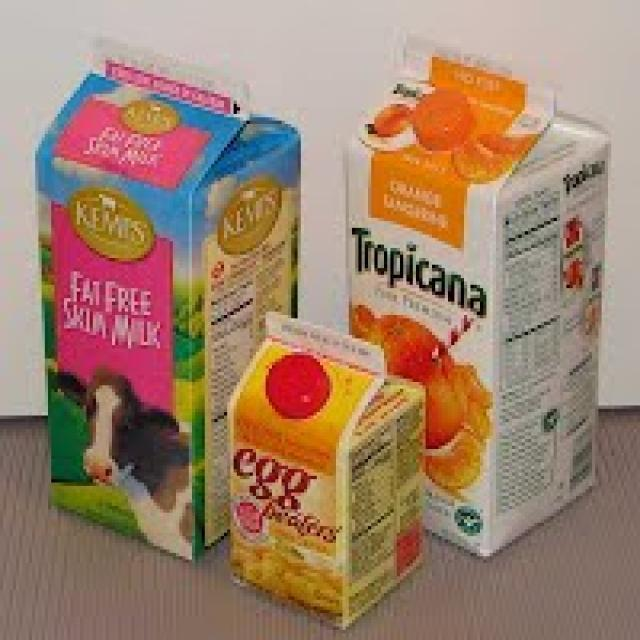Carton: (18, 27, 312, 575), (339, 27, 620, 546), (230, 304, 430, 640)
